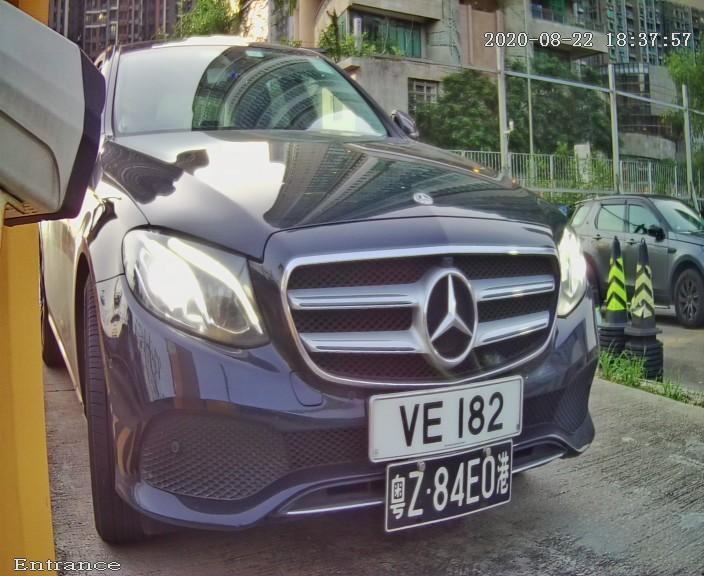Car: (16, 8, 645, 576)
License Plate: (345, 354, 542, 486)
